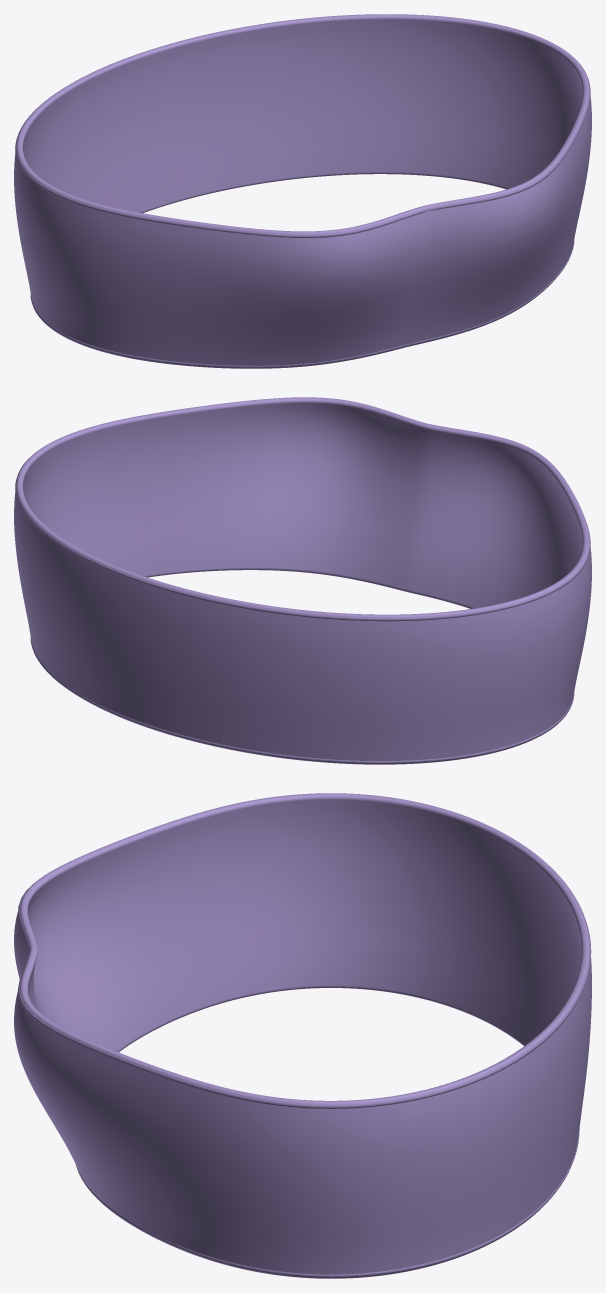
File: Feminine-bandeau-top.glb
The picture shows the model from 3 angles, top to bottom: view 1: azimuth 30°, elevation 25°; view 2: azimuth 150°, elevation 25°; view 3: azimuth 270°, elevation 25°; orthographic projection. The views are drawn at different scales.
Parts seen in each view (by area): view 1: Clothing / Bandeau, Bandeau stitched edge.001 export, Bandeau stitched edge export; view 2: Clothing / Bandeau, Bandeau stitched edge.001 export, Bandeau stitched edge export; view 3: Clothing / Bandeau, Bandeau stitched edge.001 export, Bandeau stitched edge export.
Part boxes in pixels (bbox=[...]): Clothing / Bandeau: bbox=[14, 14, 591, 368]; Bandeau stitched edge.001 export: bbox=[15, 61, 590, 237]; Bandeau stitched edge export: bbox=[30, 240, 574, 367]; Clothing / Bandeau: bbox=[14, 397, 591, 764]; Bandeau stitched edge.001 export: bbox=[15, 458, 590, 621]; Bandeau stitched edge export: bbox=[30, 637, 574, 763]; Clothing / Bandeau: bbox=[14, 793, 591, 1278]; Bandeau stitched edge.001 export: bbox=[18, 872, 591, 1108]; Bandeau stitched edge export: bbox=[76, 1128, 579, 1277].
Size of the model in its own units: 0.7086 by 0.1959 by 0.5524.
